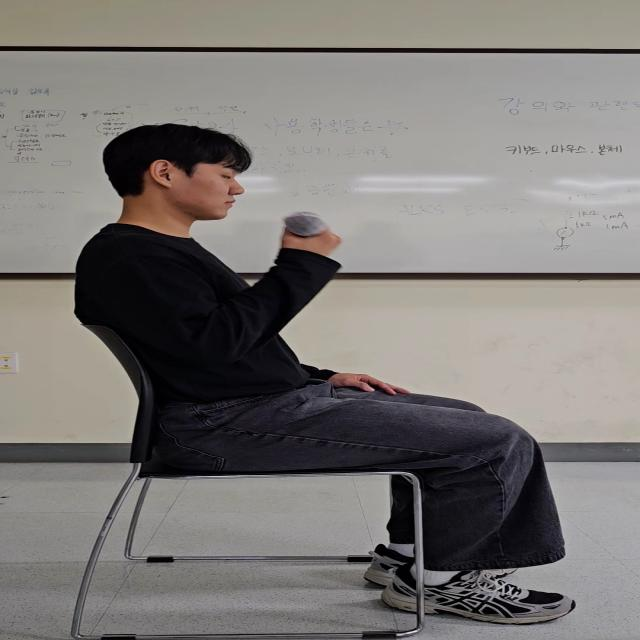curl: (128, 250, 317, 352)
